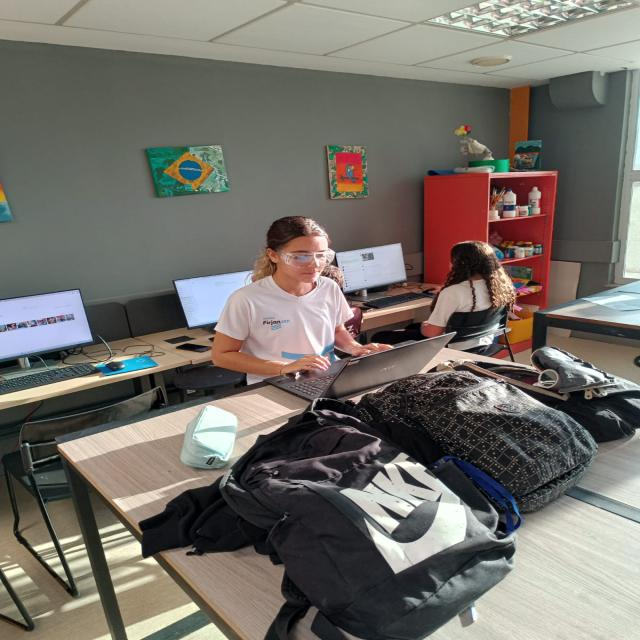oculos-epi: (277, 248, 337, 269)
